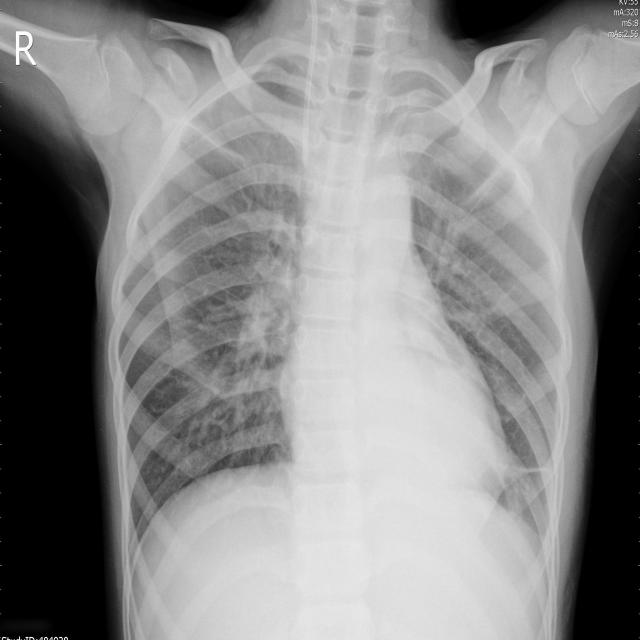low-pneumonia: (184, 209, 304, 451), (418, 139, 499, 330)
